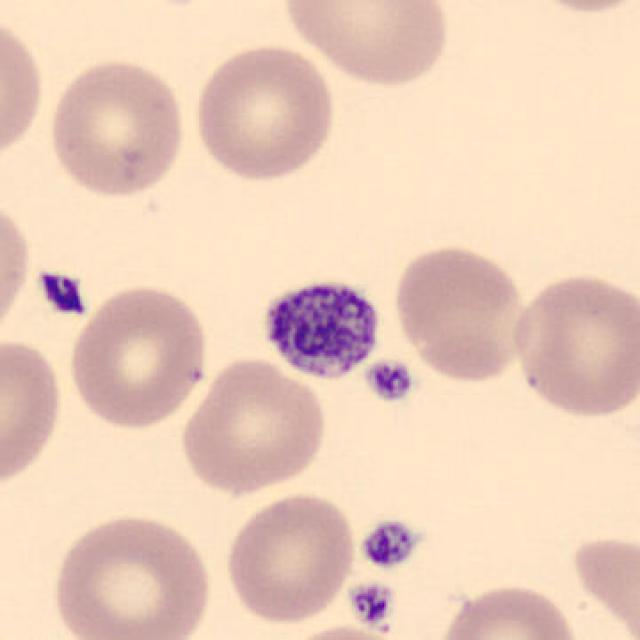Platelets: (255, 276, 385, 391), (357, 515, 423, 571), (36, 268, 90, 319), (346, 578, 396, 628), (364, 358, 416, 404)
RBC: (64, 280, 212, 432), (176, 354, 331, 498), (48, 509, 217, 640), (188, 39, 339, 185), (43, 55, 190, 201), (389, 240, 534, 386), (507, 268, 638, 421), (221, 488, 359, 626), (276, 0, 455, 90), (0, 332, 68, 494), (432, 578, 583, 640), (563, 529, 640, 640), (0, 9, 48, 166), (0, 192, 34, 342), (270, 620, 417, 640), (505, 0, 640, 16)
